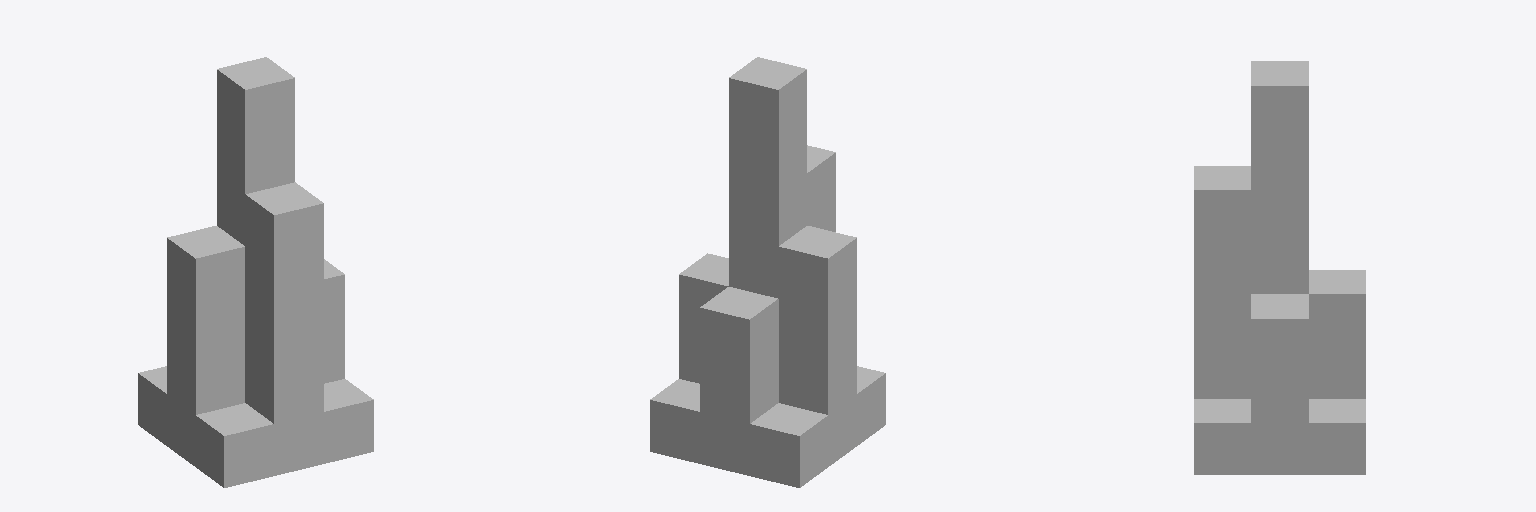
File: icespike.obj
The picture shows the model from 3 angles: view 1: azimuth 30°, elevation 25°; view 2: azimuth 150°, elevation 25°; view 3: azimuth 270°, elevation 25°; orthographic projection.
Bounding box in the file's own units: 3 × 7 × 3.